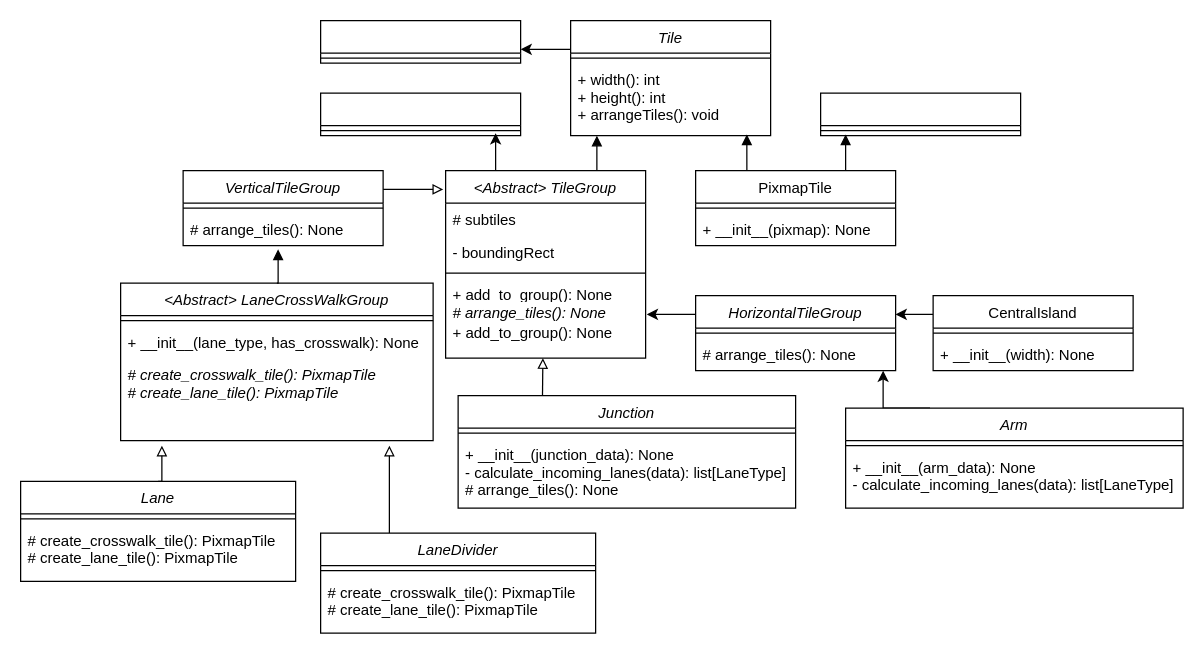
The diagram is 1204 pixels wide and 654 high, and some of its shapes have lost their labels. The shapes that lost their labels are listed below. From the top down, each one's centre as x and y in pixels, then its label:
At point 420,41: "QGraphicsItem".
At point 420,114: "QGraphicsItemGroup".
At point 920,114: "QGraphicsPixmapItem".
